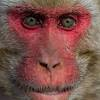monkey: (1, 0, 98, 96)
